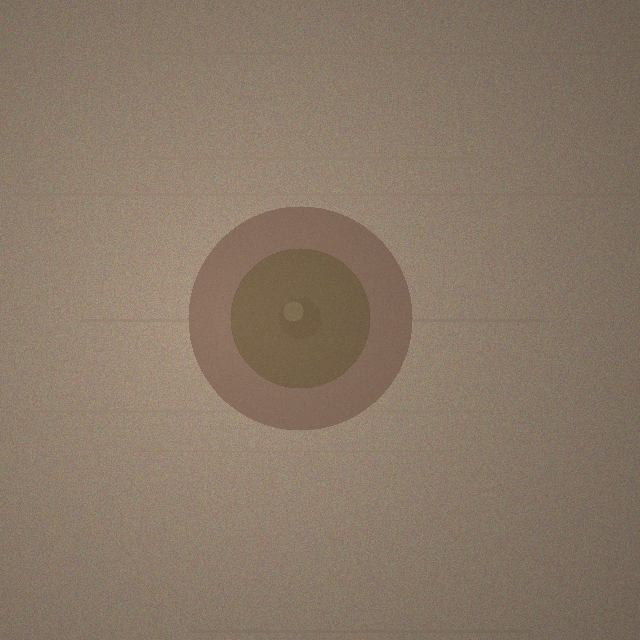good: (188, 206, 412, 430)
